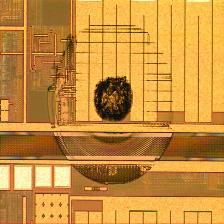BLOCK ETCH: (35, 19, 199, 188)
